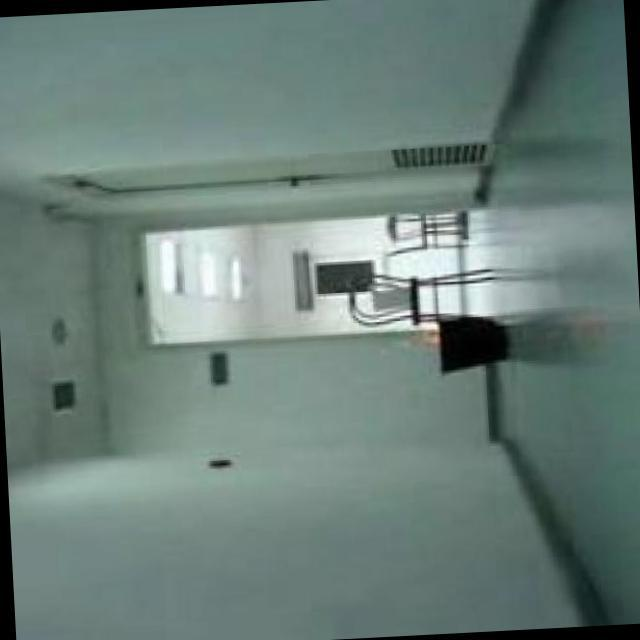Fire: (417, 333, 440, 352)
